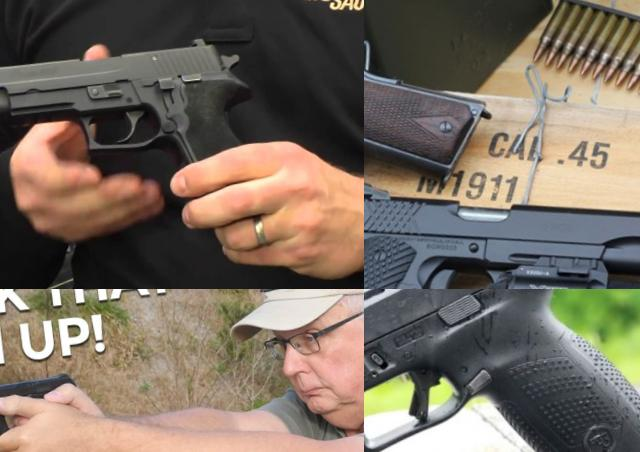handgun: (364, 0, 576, 289), (0, 30, 269, 211), (364, 289, 640, 452), (364, 138, 640, 289), (0, 114, 68, 268), (0, 368, 85, 441)
